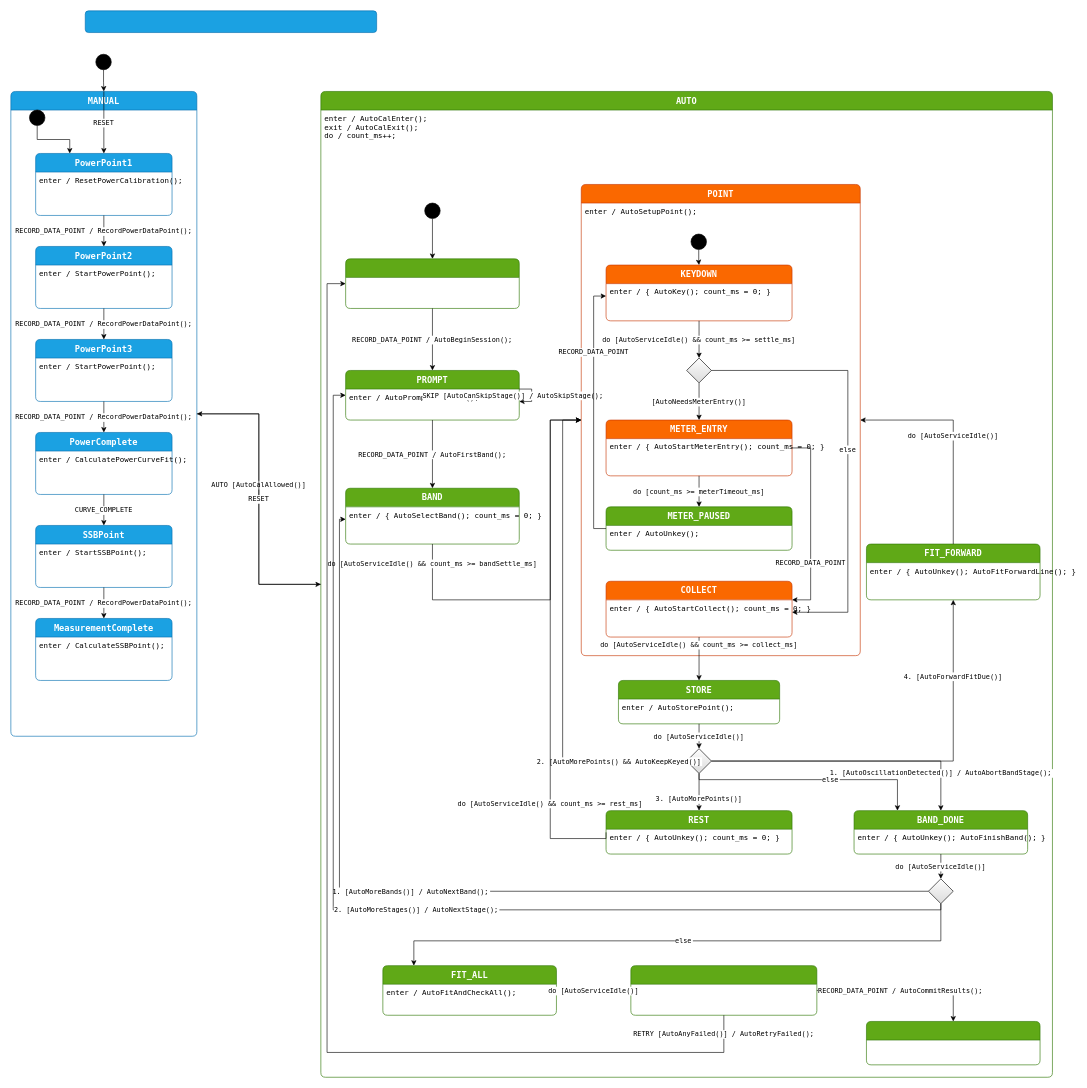
This 1087x1088 diagram has some shape labels left out. The centre of each missing label's shape, as x and y in pixels:
"$STATEMACHINE : PowerCalSm" goes at (231,21).
"DONE" goes at (953,1043).
"REVIEW" goes at (723,990).
"SETUP" goes at (432,283).
